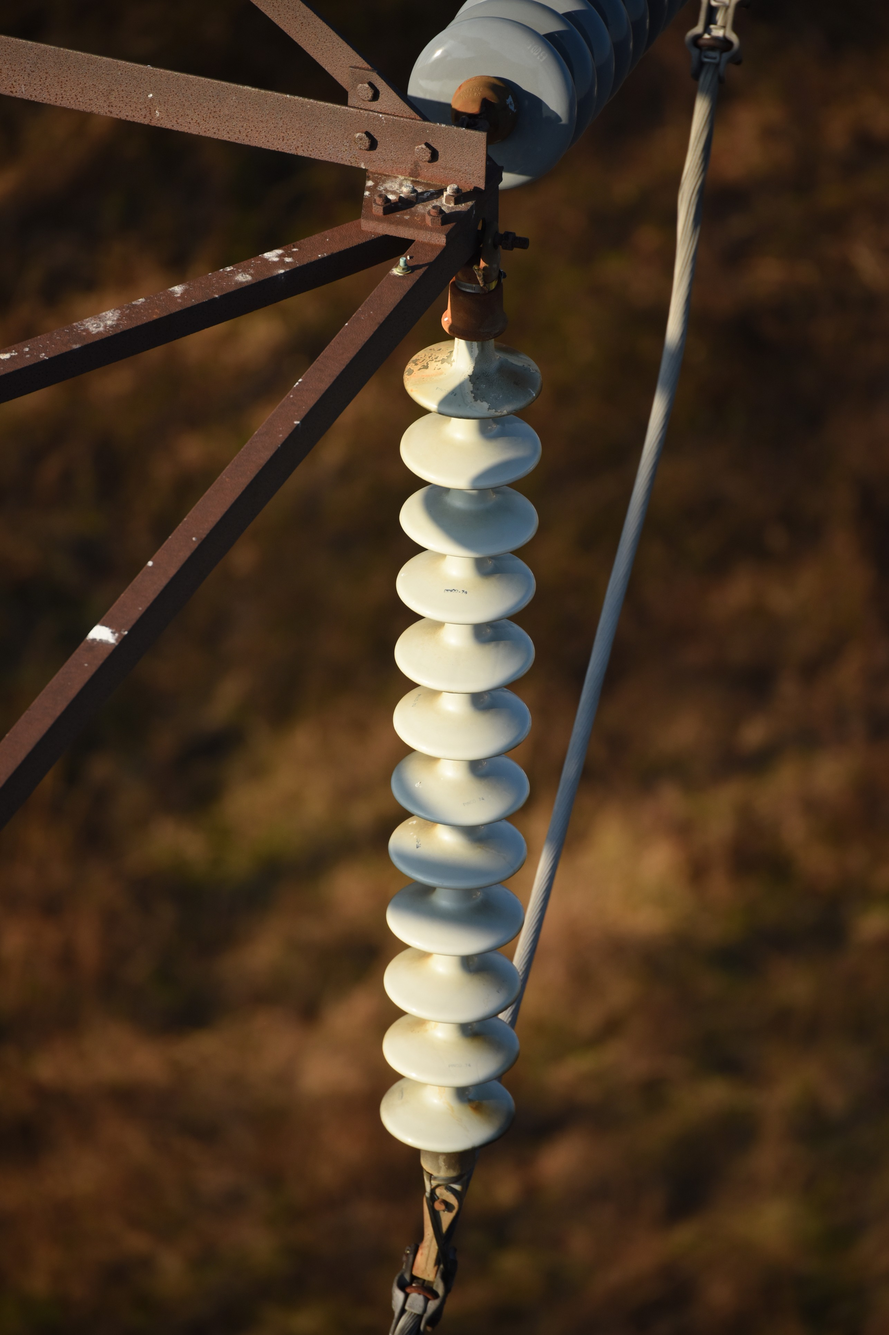Flashover: (467, 350, 542, 416)
insulator: (375, 332, 548, 1159), (404, 0, 719, 191)
